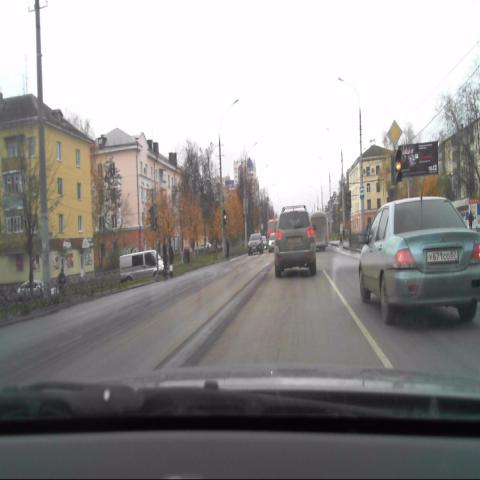2_1: (386, 118, 403, 146)
5_16: (358, 185, 365, 199)
